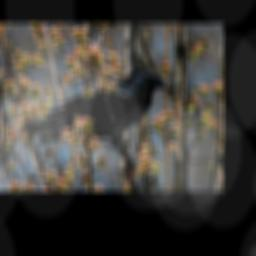Crow: (26, 67, 173, 170)
